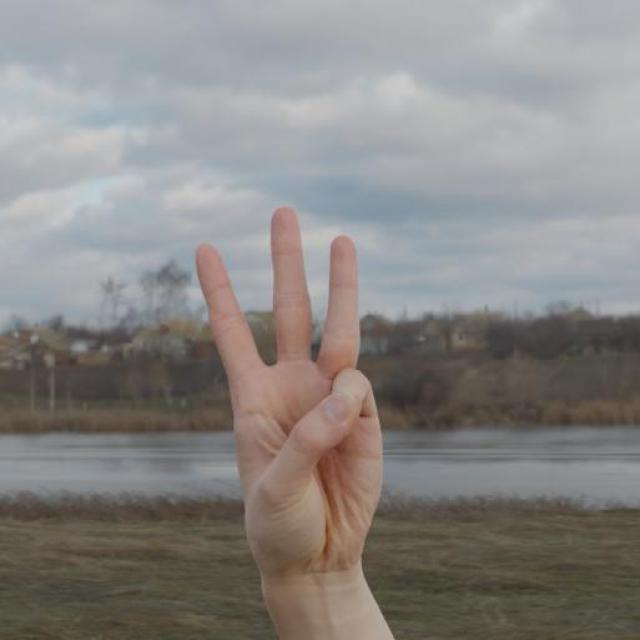W: (188, 204, 386, 582)
